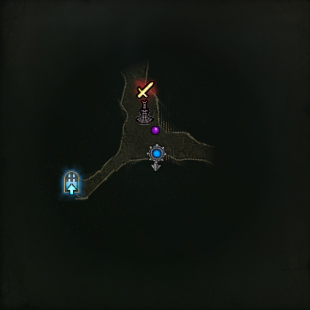PowerPylon: (133, 79, 157, 125)
